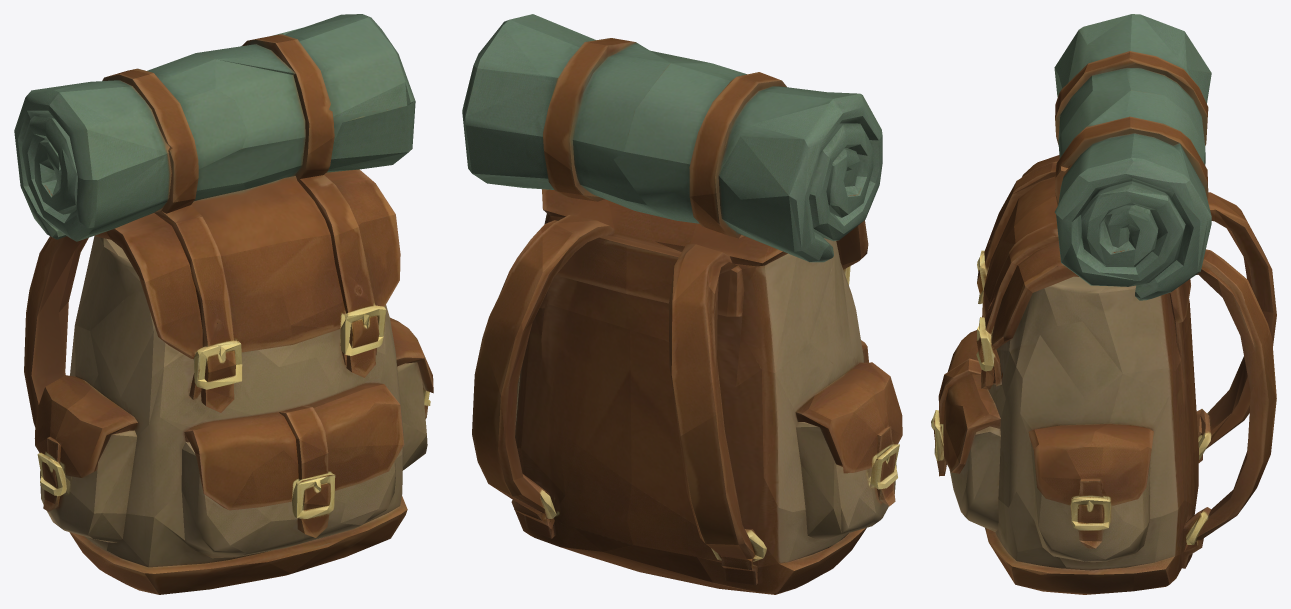
Rendered from travel_pack.glb.
3 renders of one model, left to right at view 1: azimuth 30°, elevation 25°; view 2: azimuth 150°, elevation 25°; view 3: azimuth 270°, elevation 25°, orthographic. The views are drawn at different scales.
Visible parts, largest first — view 1: Mesh_0; view 2: Mesh_0; view 3: Mesh_0.
Part boxes in pixels (bbox=[...]): Mesh_0: bbox=[14, 14, 433, 594]; Mesh_0: bbox=[462, 14, 902, 594]; Mesh_0: bbox=[931, 14, 1276, 594].
Size of the model in its own units: 0.4521 by 0.55 by 0.3748.
1 material, 1 textured.
